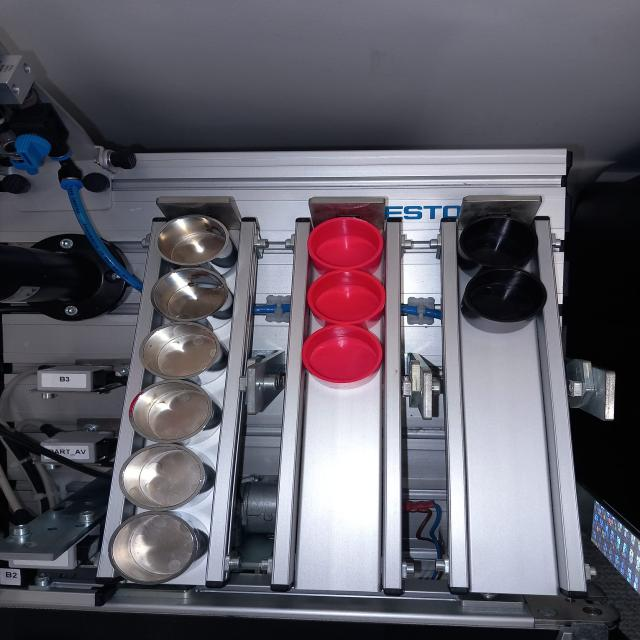NoLid: (106, 519, 202, 584), (458, 266, 552, 330), (120, 449, 208, 514), (299, 326, 388, 390), (136, 323, 228, 381), (460, 211, 552, 268), (129, 384, 212, 447), (301, 215, 393, 269), (303, 269, 390, 324), (149, 216, 235, 270), (141, 272, 242, 316)
